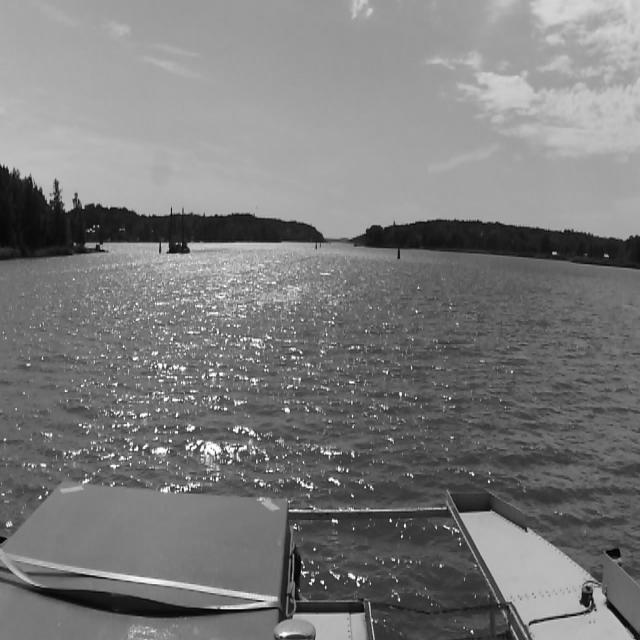buoy: (398, 245, 400, 259), (159, 241, 161, 253)
ship: (167, 205, 190, 252)
